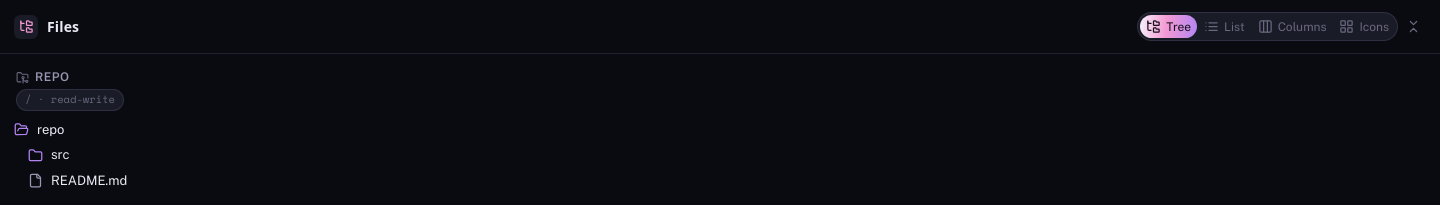
FileExplorerView (headless, no SDK) › an absent action hides its affordance — no delete button when actions.delete is missing
…and the context menu offers no Delete / write items, only Open.
Right-click the text "README.md": coordinates (89, 180) [51,173,127,188]
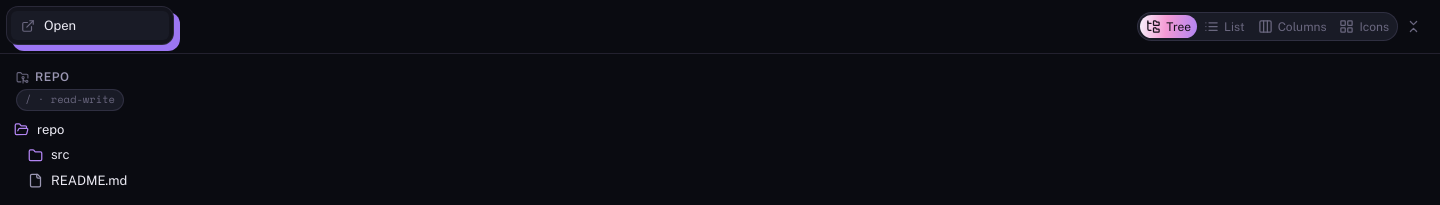
Check: the menu item "Open" is shown, box [11,11,169,40]
